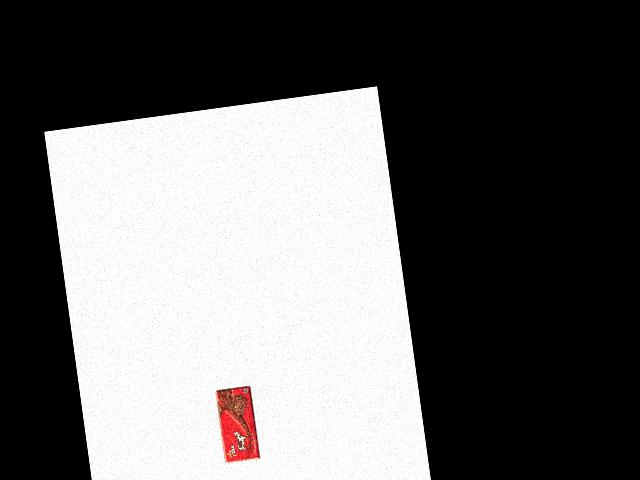chocolate: (213, 383, 264, 466)
